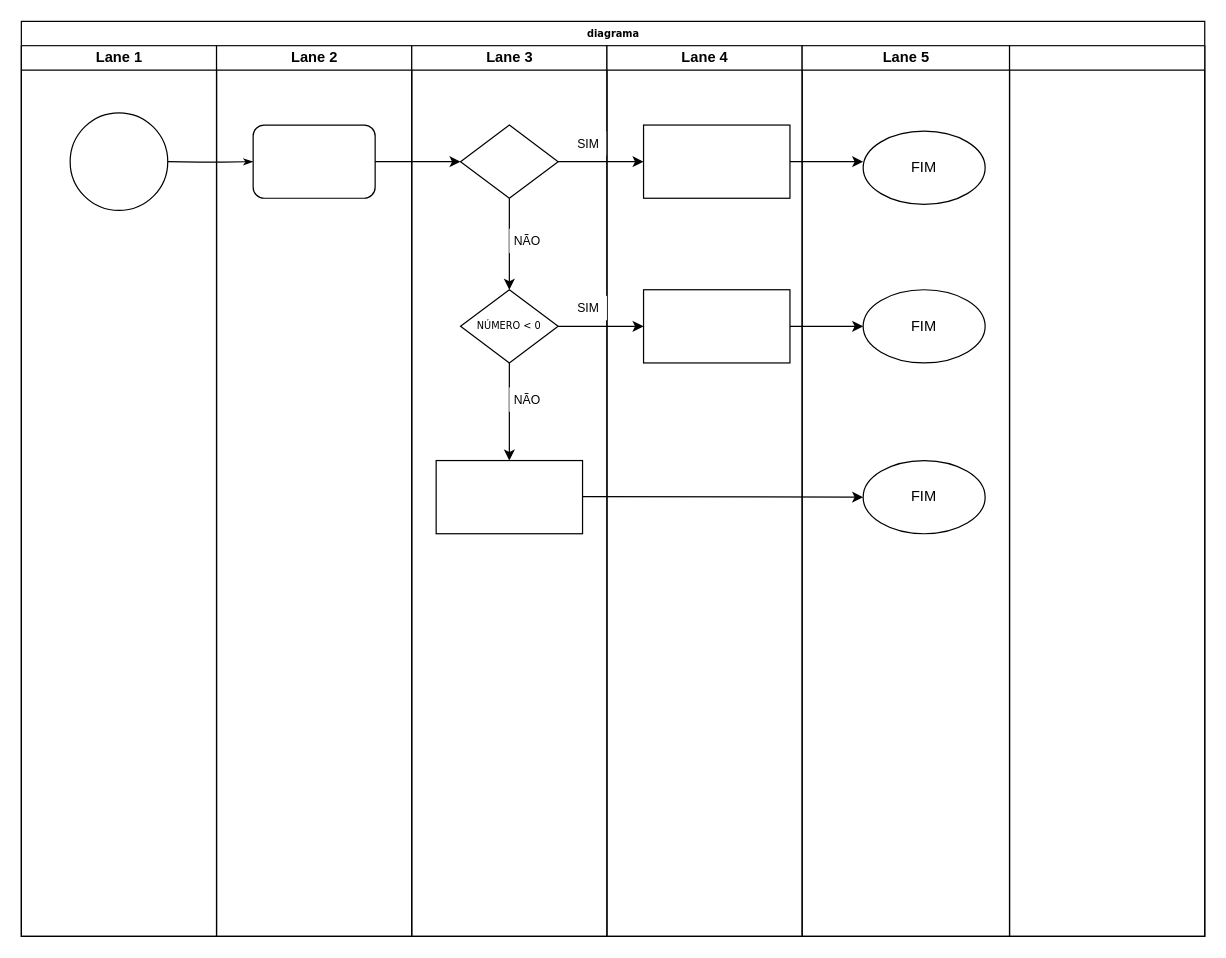
Image size: 1226x958. Some labels were removed from this diagram. The centre of each missing label's shape, as x and y in pixels:
"NÚMERO É NEGATIVO": [716,326]
"NÚMERO É POSITIVO": [716,161]
"NÚMERO É ZERO": [509,496]
DIGITE O NÚMERO DESEJADO: [313,161]
INÍCIO: [118,161]
Lane 6: [1106,490]
NÚMERO > 0: [508,161]
